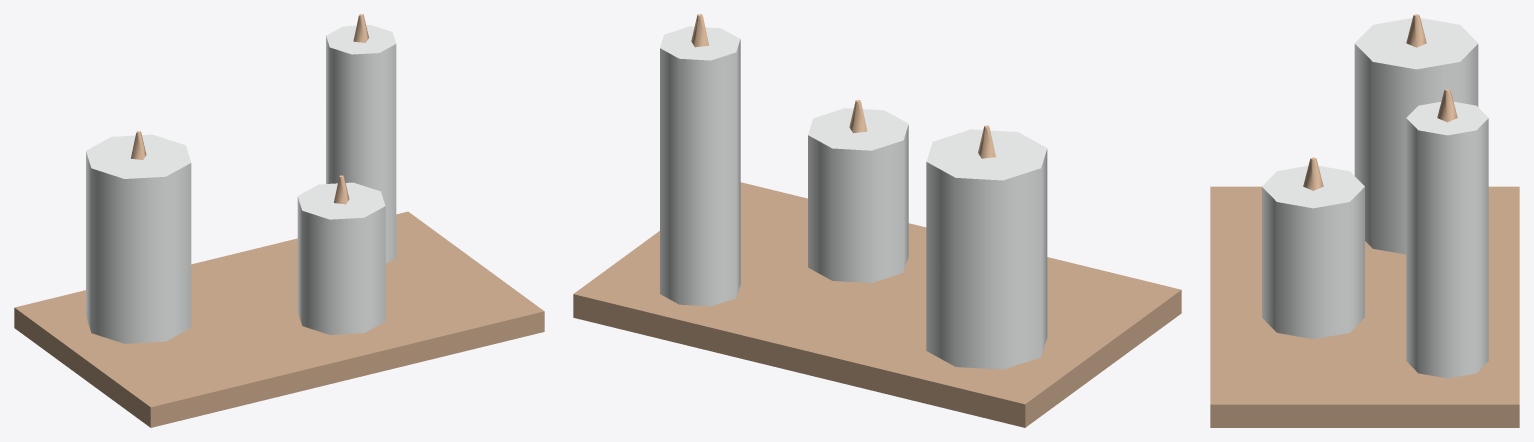
The model's file is candleTrio.glb.
3 views of the same model, side by side, from view 1: azimuth 30°, elevation 25°; view 2: azimuth 150°, elevation 25°; view 3: azimuth 270°, elevation 25° (orthographic). The views are drawn at different scales.
Visible parts, largest first — view 1: candleTrio; view 2: candleTrio; view 3: candleTrio.
Part boxes in pixels (<box>): candleTrio: <box>14,14,544,427</box>; candleTrio: <box>573,14,1181,427</box>; candleTrio: <box>1210,14,1519,427</box>.
Size of the model in its own units: 0.25 by 0.1575 by 0.15.
